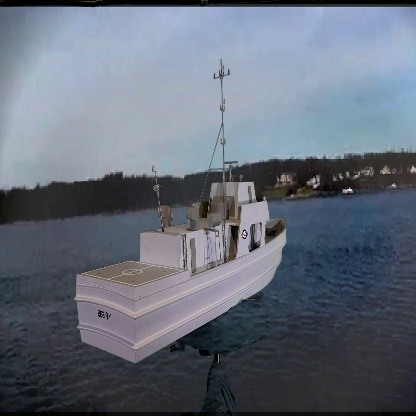YP689: (74, 62, 288, 366)
